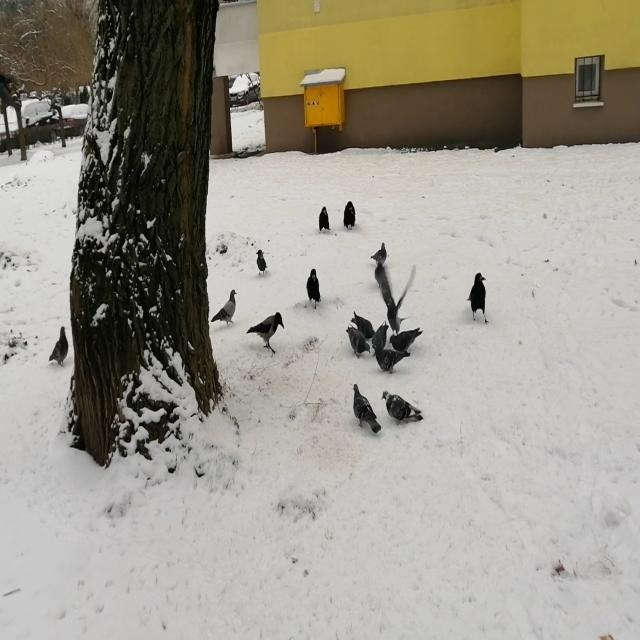bird: (379, 267, 416, 335), (246, 312, 284, 354), (382, 389, 423, 424), (354, 384, 382, 434), (467, 271, 488, 323), (375, 344, 410, 371), (212, 289, 236, 326), (48, 327, 68, 368), (347, 326, 370, 356), (351, 312, 373, 338), (307, 269, 319, 307), (372, 324, 388, 349), (344, 202, 355, 230), (256, 249, 267, 277), (373, 243, 387, 264), (319, 206, 329, 233)
